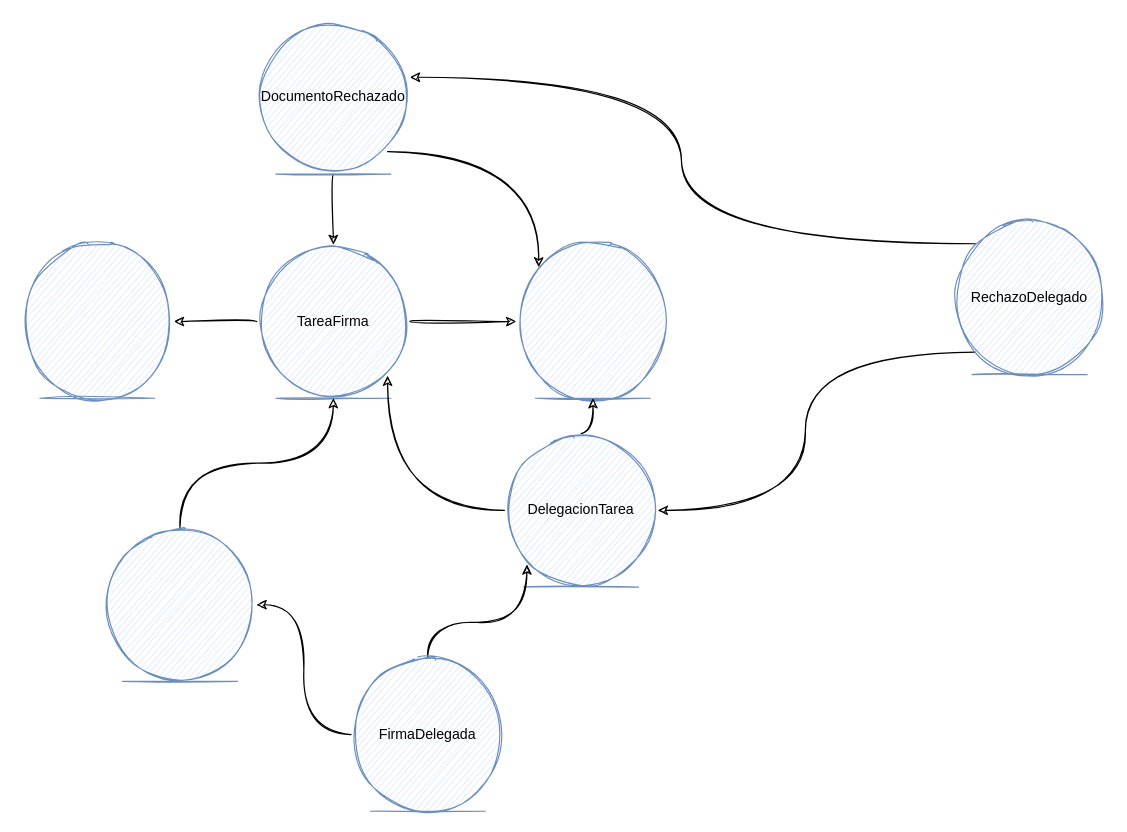
Image size: 1127x832. Some labels were removed from this diagram. The shapes that lost their labels are listed below. From the top down, each one's centre as x and y in pixels, then its label:
the point at 96,321: DocumentoRepositorio
the point at 592,321: Firmante
the point at 179,604: DocumentoFirmado
